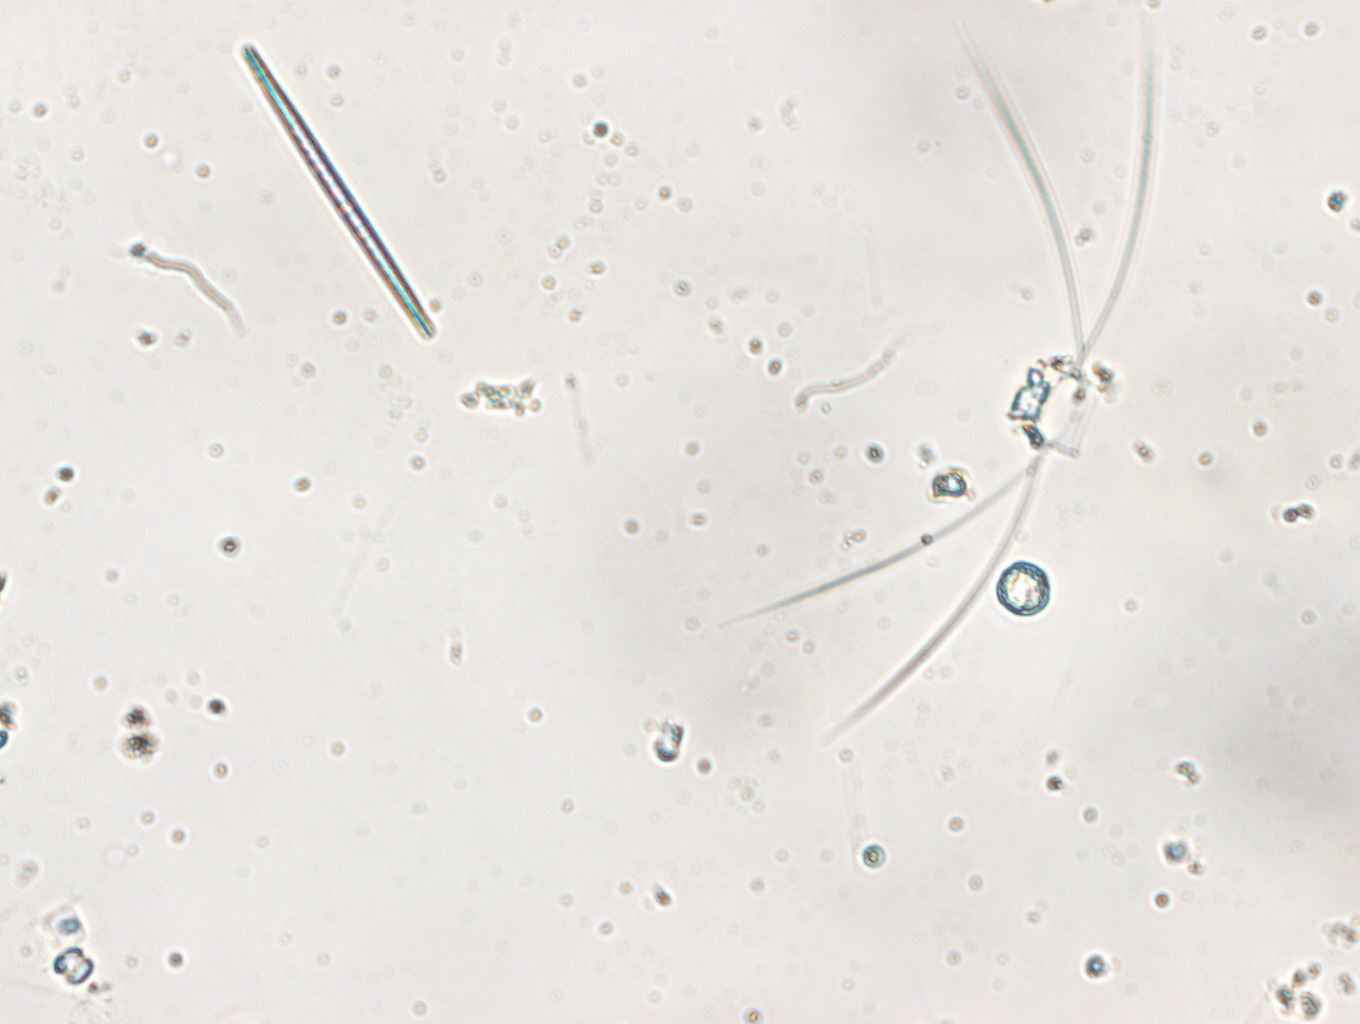chaetoceros: (730, 19, 1191, 746)
